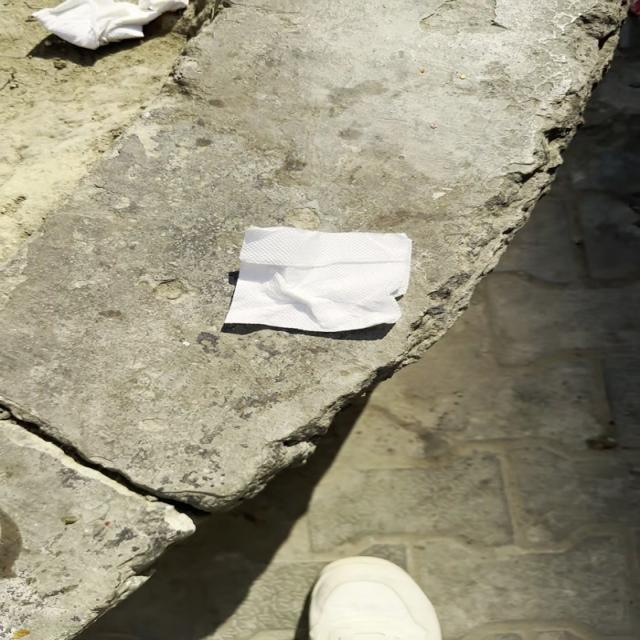tissue: (218, 227, 422, 331)
